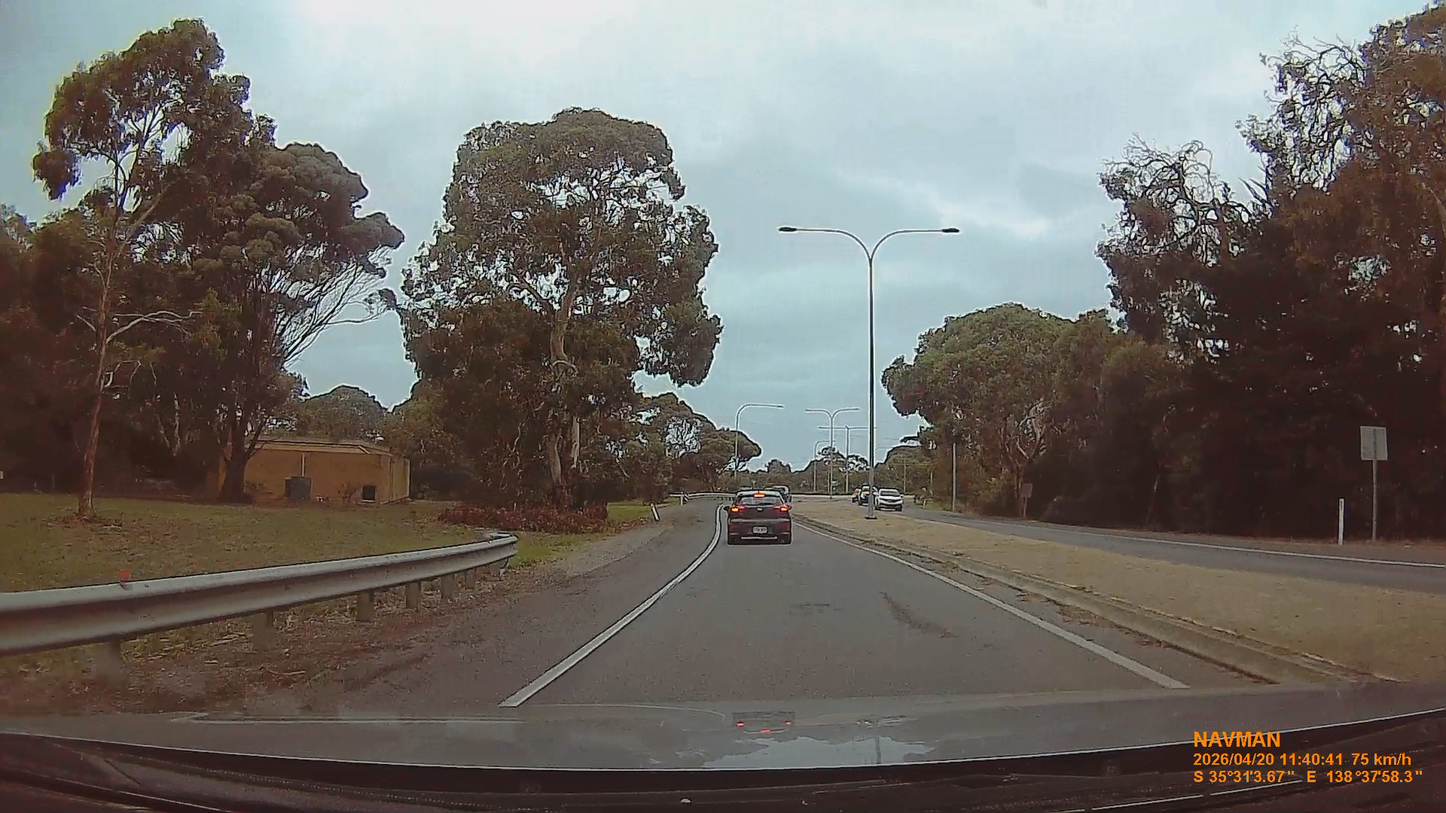road barriers: (3, 529, 512, 651)
